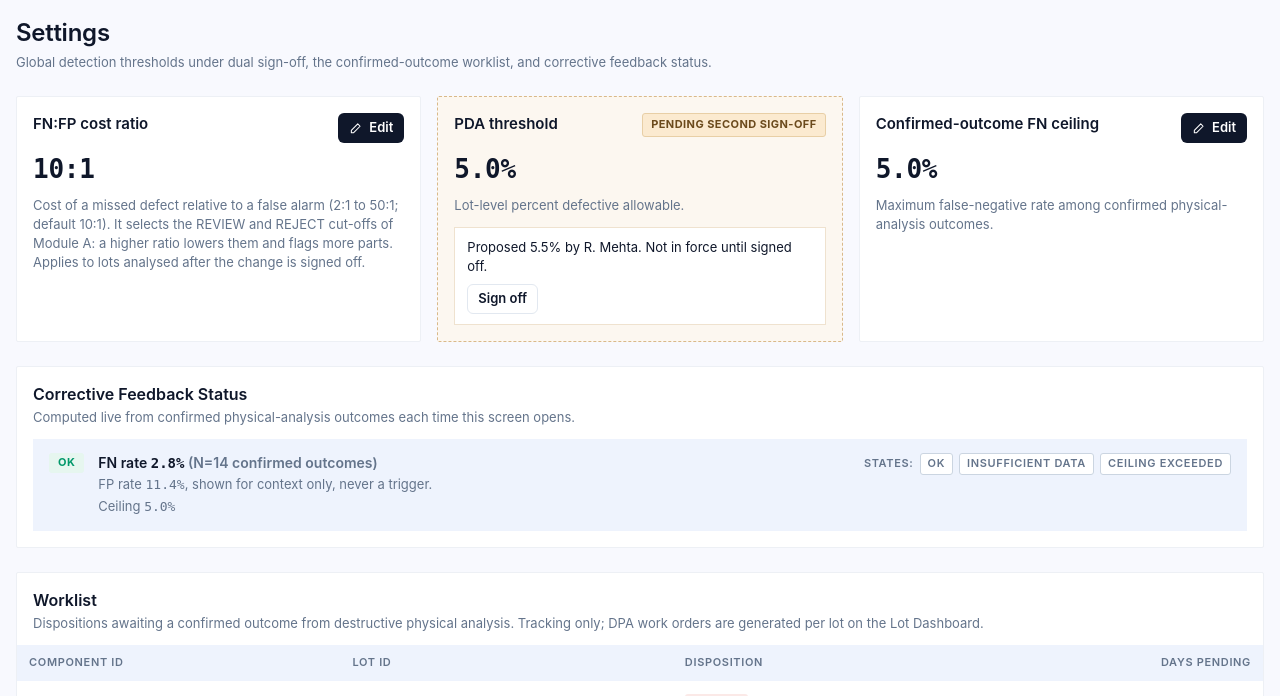
Test case: SettingsScreen (E6 screen 7) › rejects 0 before sending anything
Expected: the element "FN:FP cost ratio" is shown, [16,96,421,342]
Expected: the text "10:1" is shown, [33,154,95,184]
Click the button "Edit" in the row of "FN:FP cost ratio" at (371, 128), box [338,113,404,143]
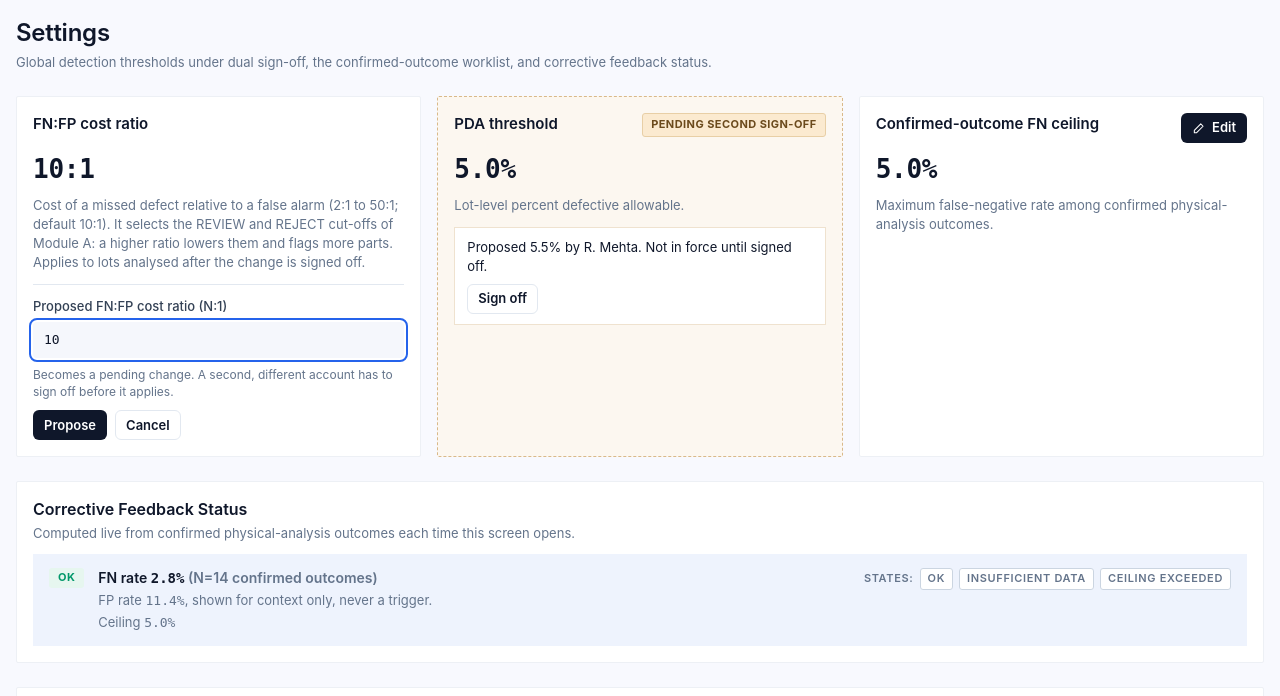
Replace the text in the field with "0" at (219, 340), box [33,322,404,358]
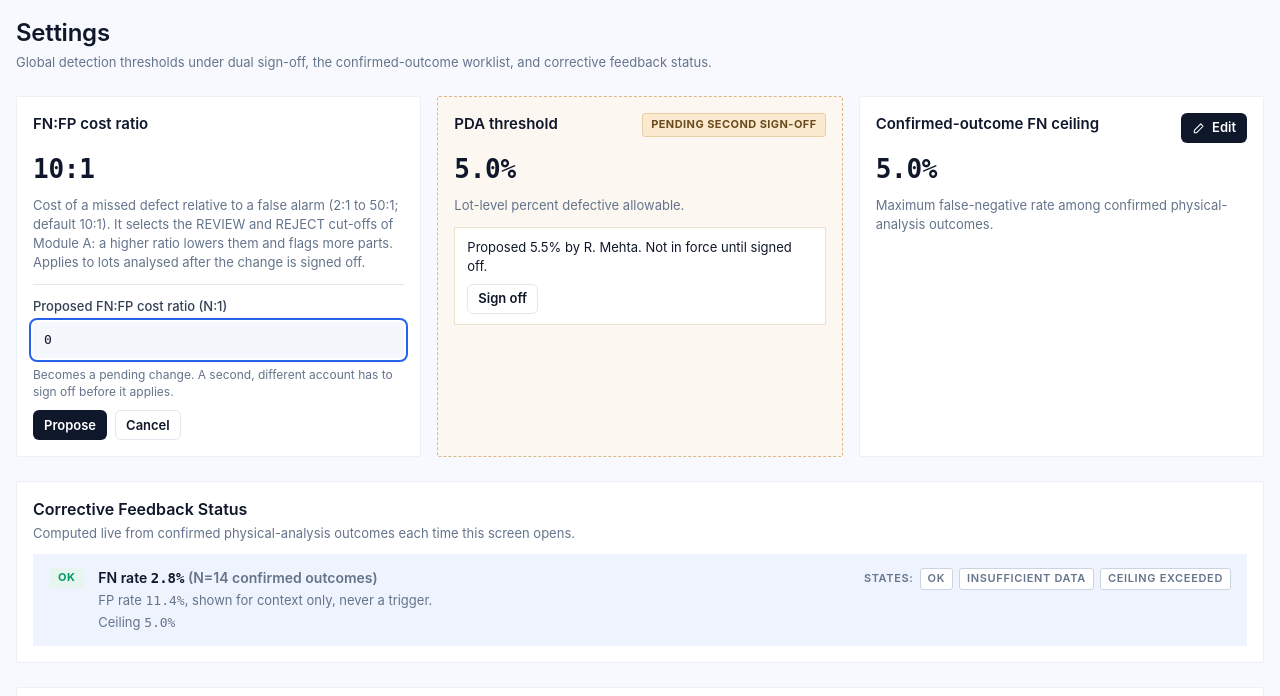
Click the button "Propose" at (70, 425), box [33,410,107,440]
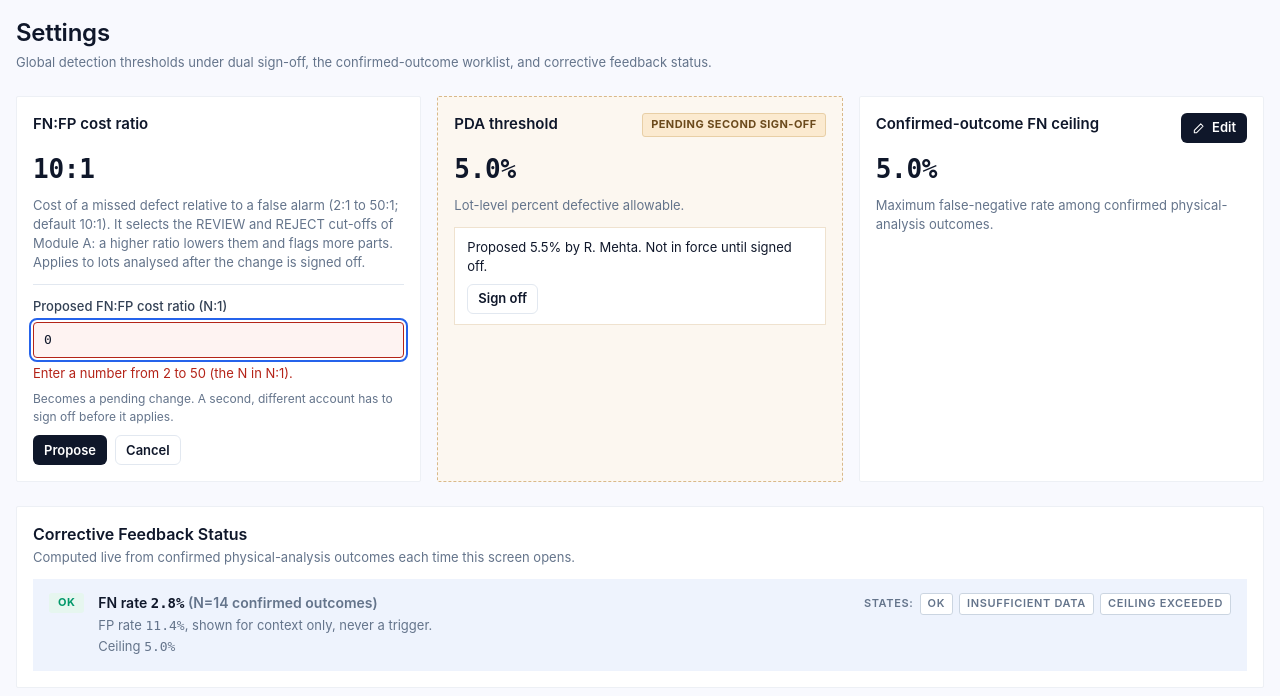
Expected: the message "Enter a number from 2 to 50 (the N in N:1)." is shown, [33,364,293,380]
